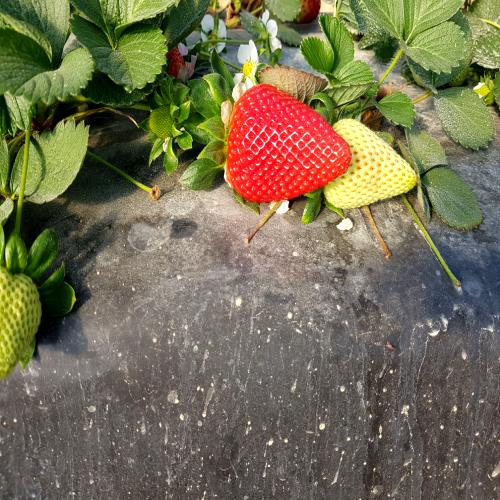ripe: (226, 78, 354, 214)
